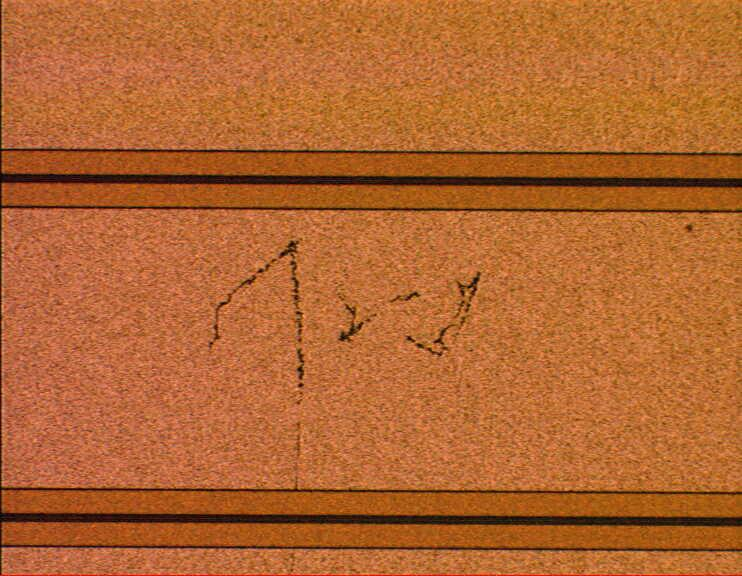SCRATCH: (202, 236, 490, 576)
